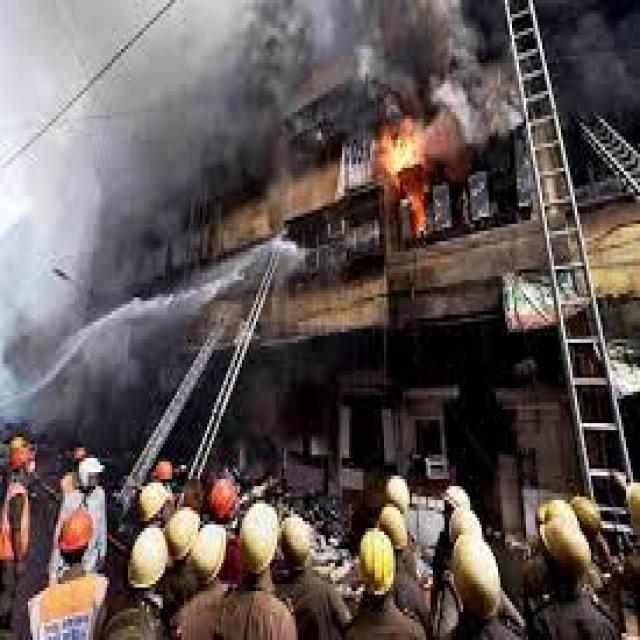fire: (380, 133, 430, 238)
smoke: (195, 3, 526, 133), (2, 7, 191, 196)
